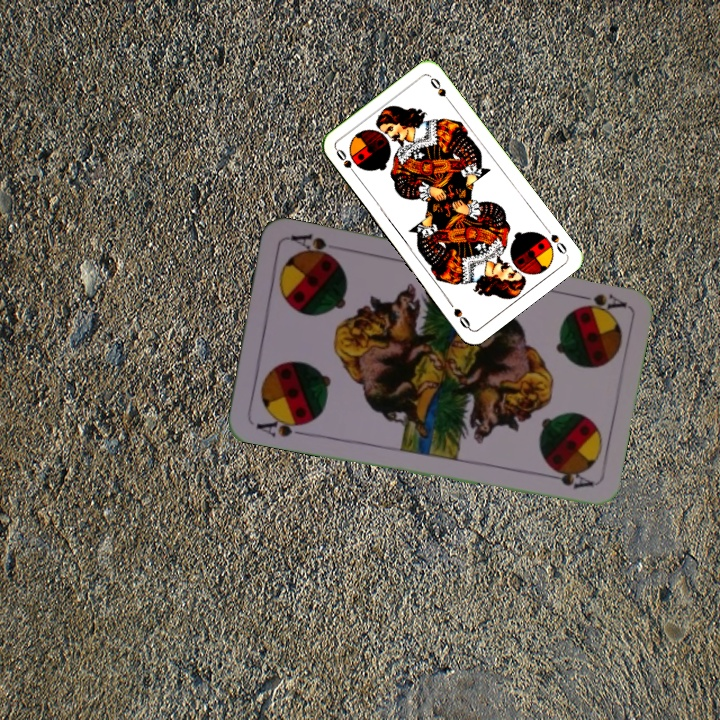SA: (252, 411, 310, 440), (570, 289, 629, 315)
SO: (332, 145, 361, 180), (541, 223, 570, 258)
